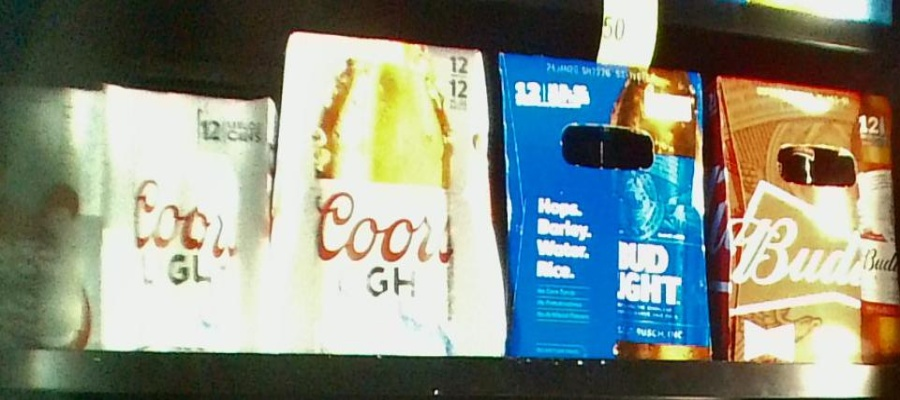bottle: (279, 29, 496, 355), (496, 51, 705, 361), (709, 74, 897, 363), (98, 84, 274, 353), (2, 88, 97, 348)
